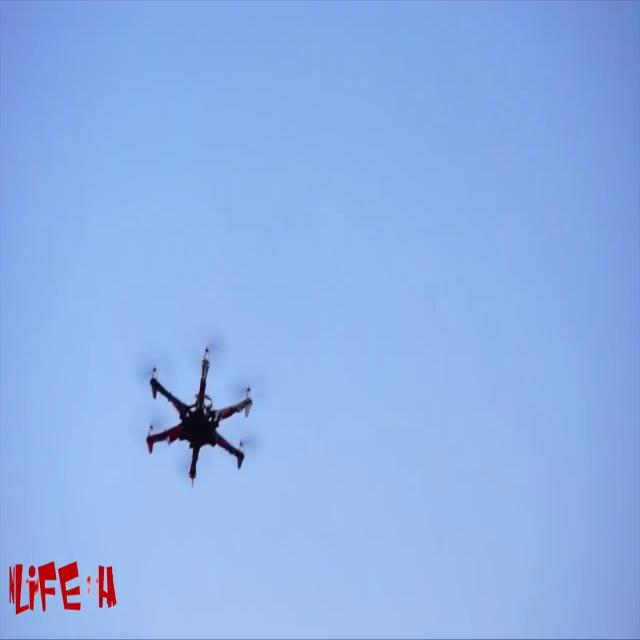drone: (135, 332, 274, 512)
